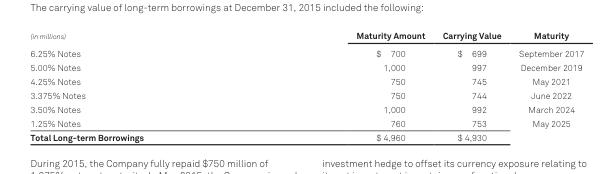table: (29, 29, 583, 142)
table column: (29, 29, 249, 142), (249, 29, 433, 142), (433, 29, 509, 142), (509, 29, 583, 142)
table column header: (29, 29, 583, 44)
table row: (29, 44, 583, 60), (29, 29, 583, 44), (29, 60, 583, 74), (29, 74, 583, 88), (29, 88, 583, 102), (29, 115, 583, 129), (29, 102, 583, 115), (29, 129, 583, 142)
